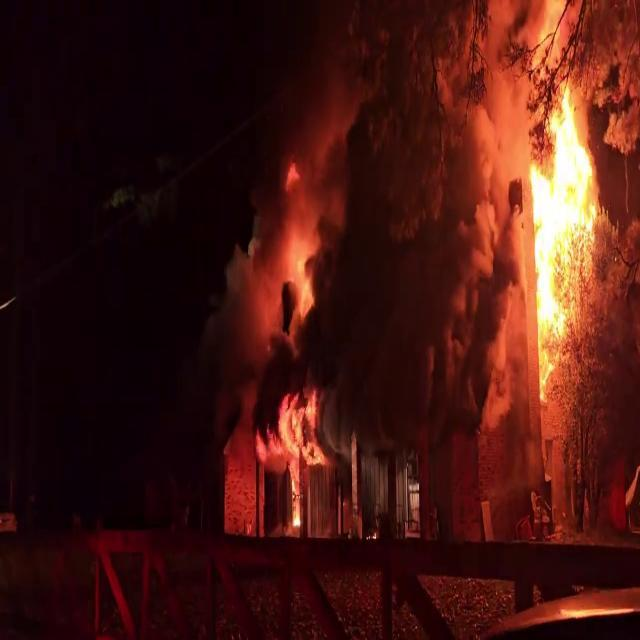Fire: (514, 68, 602, 374)
Smoke: (303, 0, 536, 401)
